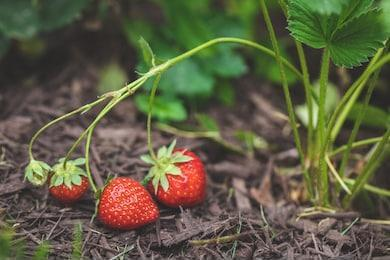Fresa: (141, 140, 213, 215), (92, 174, 161, 232), (45, 152, 93, 208)
